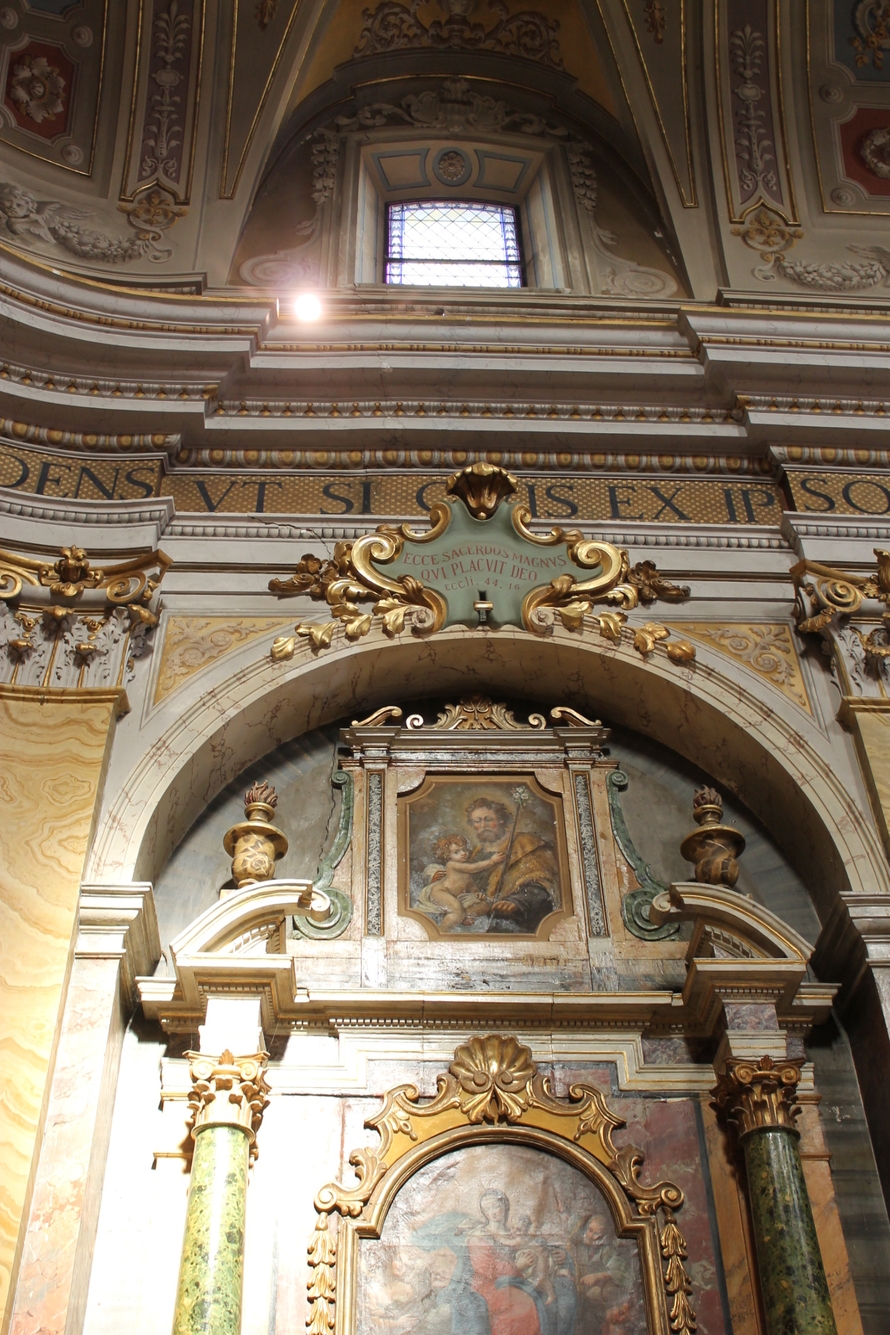Crack: (241, 472, 347, 588)
